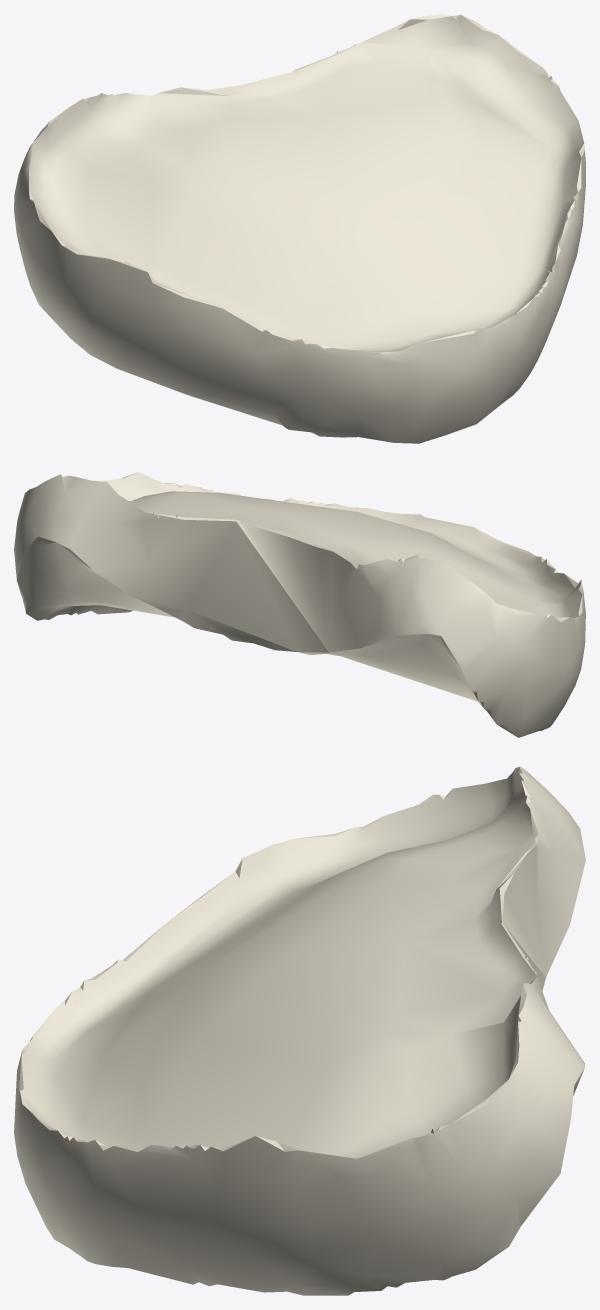
Rendered from fma13495_fj3223.glb.
The picture shows the model from 3 angles, top to bottom: view 1: azimuth 30°, elevation 25°; view 2: azimuth 150°, elevation 25°; view 3: azimuth 270°, elevation 25°; orthographic projection. The views are drawn at different scales.
Visible parts, largest first — view 1: FMA13495_FJ3223; view 2: FMA13495_FJ3223; view 3: FMA13495_FJ3223.
Part boxes in pixels (x1,y1,x2,y2): FMA13495_FJ3223: (14, 14, 585, 443); FMA13495_FJ3223: (14, 472, 585, 737); FMA13495_FJ3223: (14, 766, 585, 1295).
Bounding box in the file's own units: 0.0319 × 0.0149 × 0.0229.
